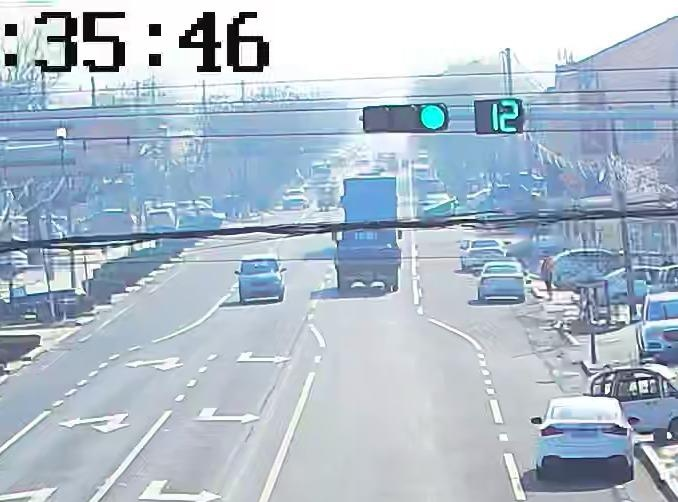green: (416, 102, 448, 131)
greentime: (489, 99, 520, 135)
